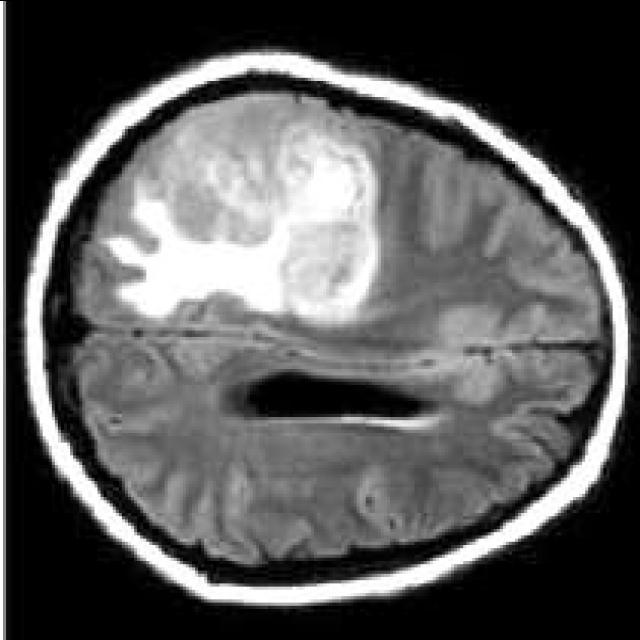tumor: (113, 122, 381, 317)
